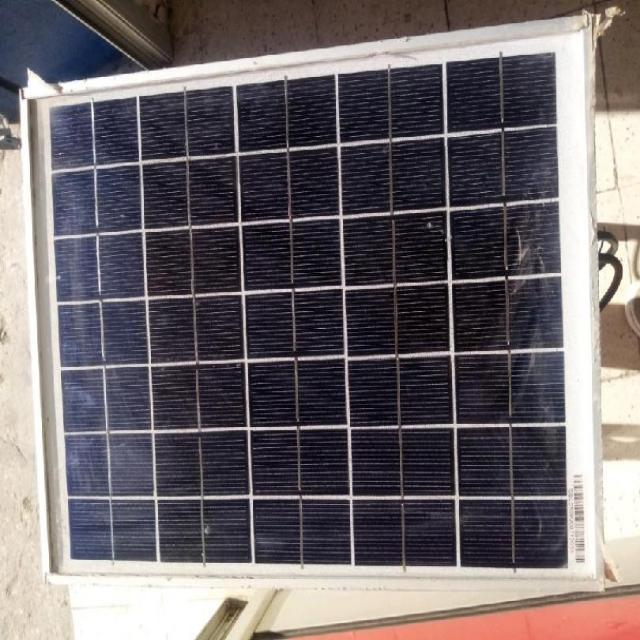faulty: (20, 19, 606, 594)
